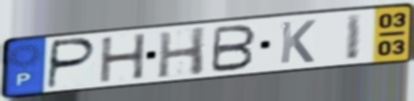B: (208, 23, 259, 74)
H: (156, 25, 209, 80), (98, 31, 148, 85)
I: (344, 11, 365, 62)
K: (277, 18, 318, 65)
P: (44, 36, 99, 91)
